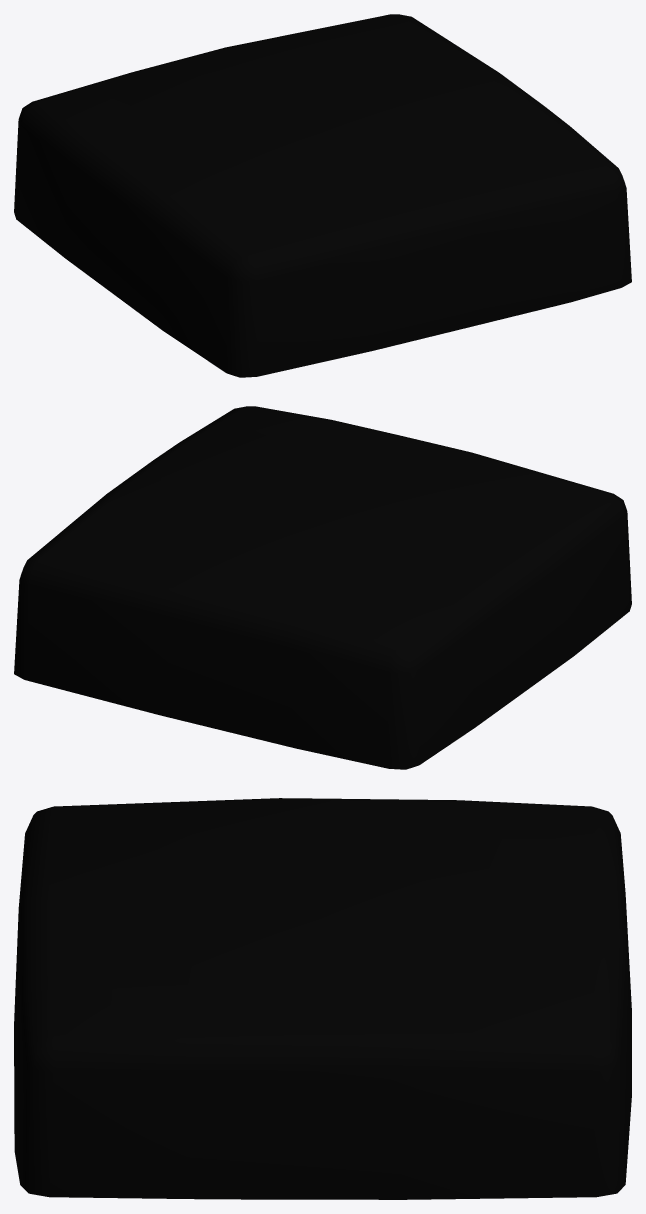
File: ice_george.fbx
3 views of the same model, one above another, from view 1: azimuth 30°, elevation 25°; view 2: azimuth 150°, elevation 25°; view 3: azimuth 270°, elevation 25° (orthographic). The views are drawn at different scales.
Parts seen in each view (by area): view 1: block_spec_ice; view 2: block_spec_ice; view 3: block_spec_ice.
Boxes of the visible parts, <box> form: block_spec_ice: <box>14,14,631,377</box>; block_spec_ice: <box>14,406,631,769</box>; block_spec_ice: <box>14,798,631,1199</box>.
Bounding box in the file's own units: 213 × 58.43 × 213.
